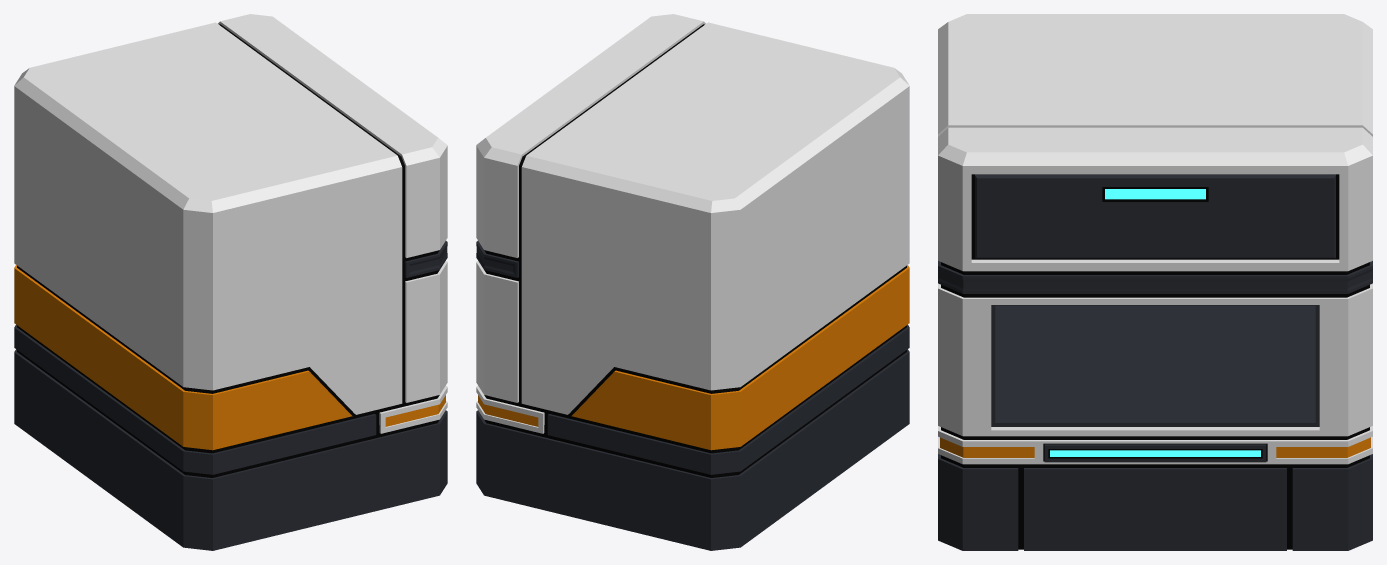
Rendered from bedside_table.glb.
The picture shows the model from 3 angles, left to right: view 1: azimuth 30°, elevation 25°; view 2: azimuth 150°, elevation 25°; view 3: azimuth 270°, elevation 25°; orthographic projection. The views are drawn at different scales.
Visible parts, largest first — view 1: SM_Bedside_Table; view 2: SM_Bedside_Table; view 3: SM_Bedside_Table, SM_Bedside_Drawer.
Part boxes in pixels (box(x1,y1,x2,y2)): SM_Bedside_Table: box(14, 14, 447, 550); SM_Bedside_Table: box(476, 14, 909, 550); SM_Bedside_Table: box(938, 14, 1372, 550); SM_Bedside_Drawer: box(975, 174, 1335, 258).
Bounding box in the file's own units: 0.4033 × 0.5 × 0.5.
